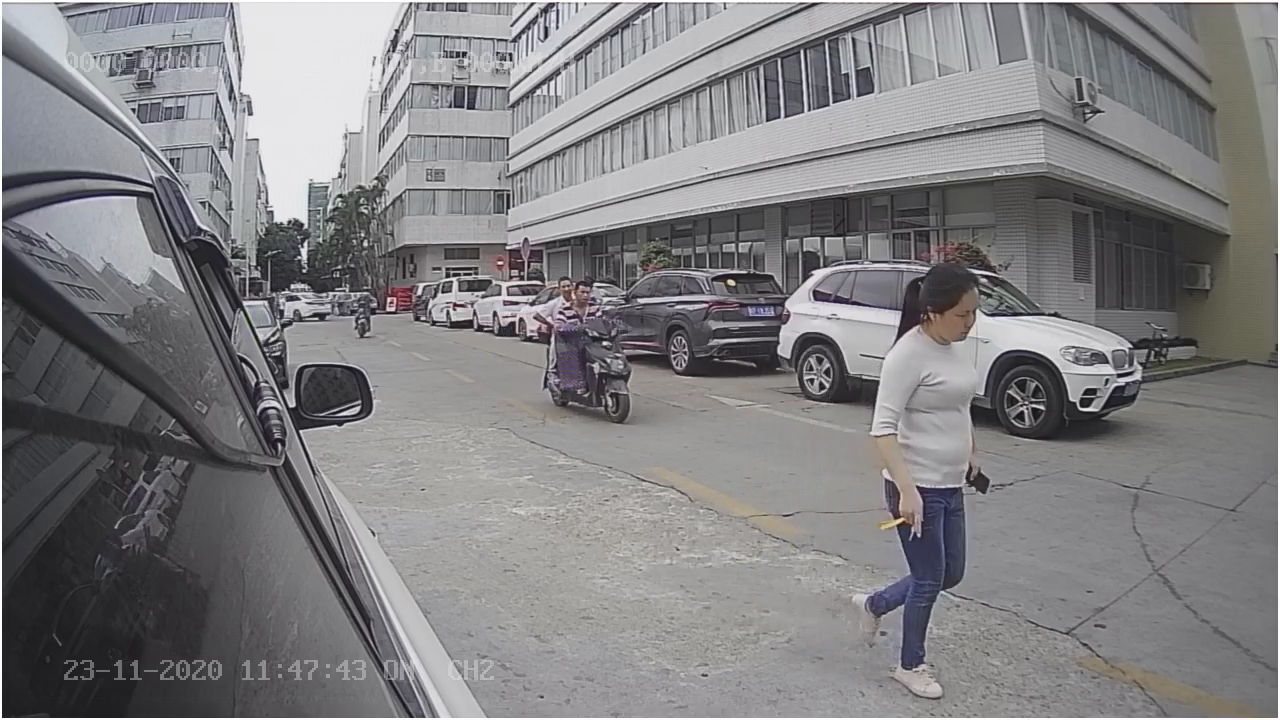person: (818, 248, 994, 696)
